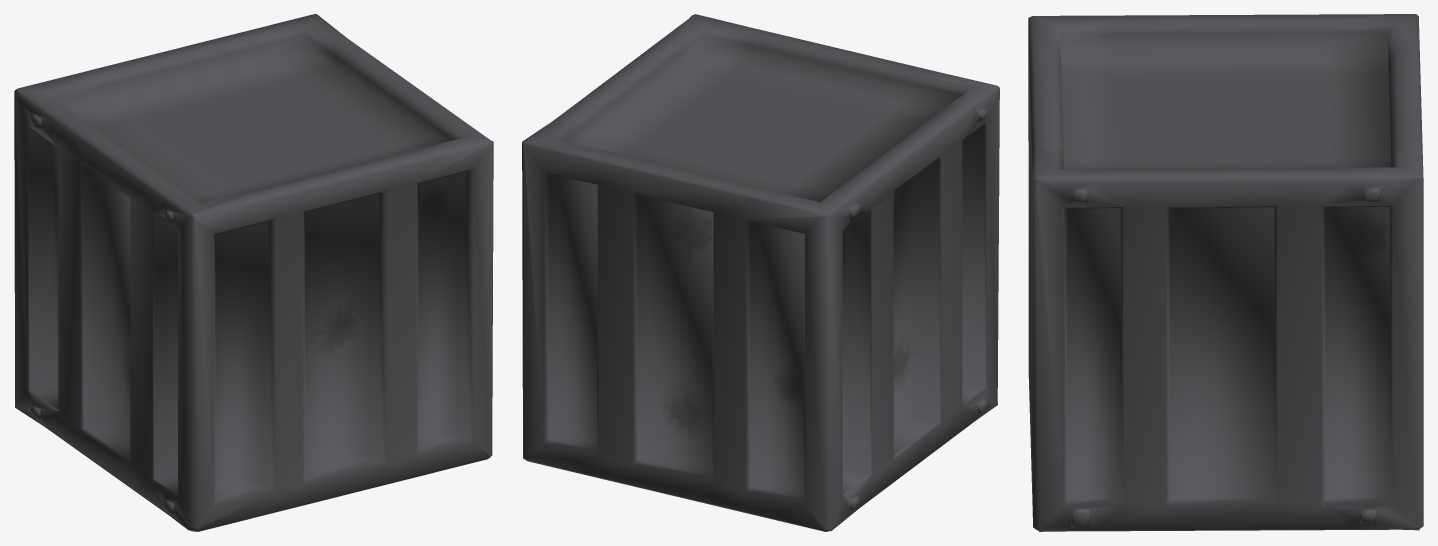
File: Crate.fbx
3 renders of one model, left to right at view 1: azimuth 30°, elevation 25°; view 2: azimuth 150°, elevation 25°; view 3: azimuth 270°, elevation 25°, orthographic. The views are drawn at different scales.
Parts seen in each view (by area): view 1: Cube; view 2: Cube; view 3: Cube.
Boxes of the visible parts, box(x1,y1,x2,y2) form: Cube: box(14, 14, 493, 531); Cube: box(522, 14, 999, 531); Cube: box(1028, 14, 1423, 531).
Bounding box in the file's own units: 209 × 200 × 202.
Materials: 1 (1 with a texture image).
